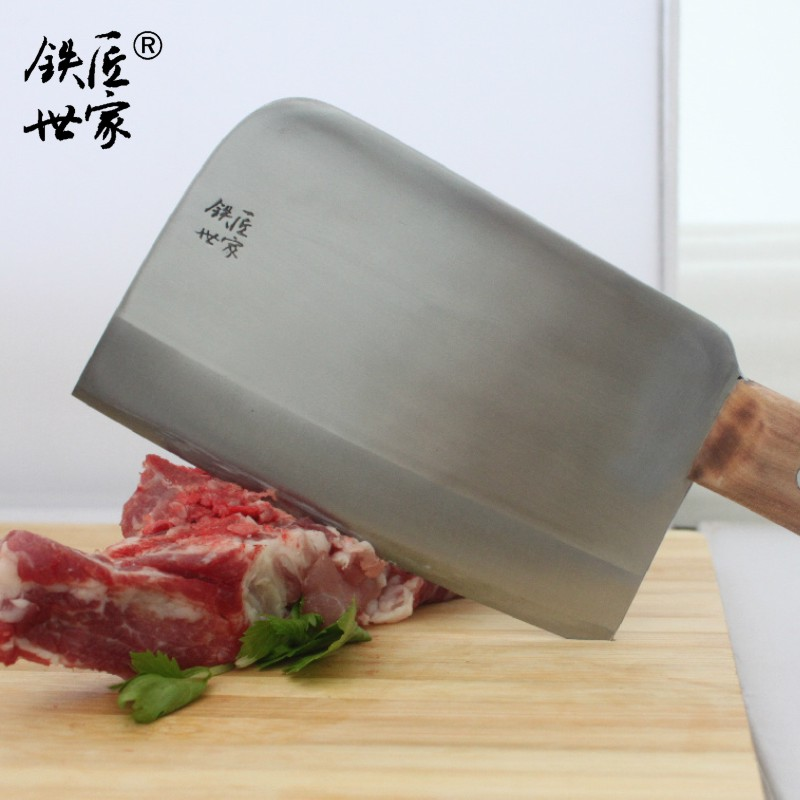knief: (108, 130, 800, 649)
